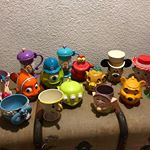cups: (1, 92, 32, 129), (37, 88, 65, 124)
